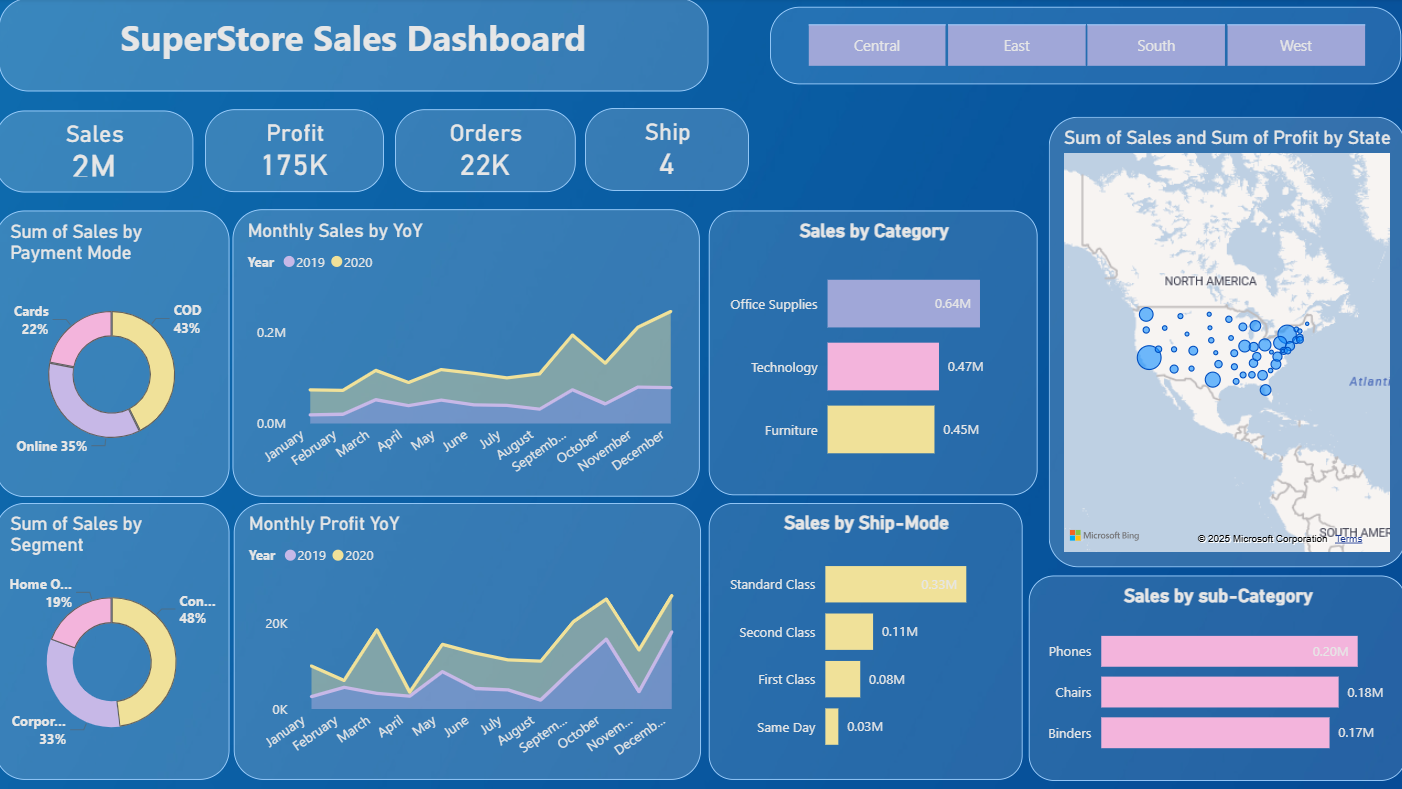

This screenshot's page, from the dashboard's own definition file:
{"tool":"powerbi","page":{"name":"Page 1","canvas":[1280,720],"ordinal":0},"visuals":[{"type":"clusteredBarChart","title":"Sales by Category","fields":{"Category":["SuperStore_Sales_Dataset.Category"],"Y":["Sum(SuperStore_Sales_Dataset.Sales)"]},"box":[647.5,192.5,298.8,258.8],"z":0},{"type":"clusteredBarChart","title":"Sales by sub-Category","fields":{"Category":["SuperStore_Sales_Dataset.Sub-Category"],"Y":["Sum(SuperStore_Sales_Dataset.Sales)"]},"box":[937.5,523.8,342.5,186.2],"z":1000},{"type":"clusteredBarChart","title":"Sales by sub-Category","fields":{"Category":["SuperStore_Sales_Dataset.Ship Mode"],"Y":["Sum(SuperStore_Sales_Dataset.Sales)"]},"box":[647.5,458.8,285,251.2],"z":2000},{"type":"stackedAreaChart","fields":{"Category":["SuperStore_Sales_Dataset.Order Date.Variation.Date Hierarchy.Month"],"Y":["Sum(SuperStore_Sales_Dataset.Sales)"],"Series":["SuperStore_Sales_Dataset.Order Date.Variation.Date Hierarchy.Year"]},"box":[215.4,192.1,424,260.7],"z":3000},{"type":"stackedAreaChart","fields":{"Category":["SuperStore_Sales_Dataset.Order Date.Variation.Date Hierarchy.Month"],"Series":["SuperStore_Sales_Dataset.Order Date.Variation.Date Hierarchy.Year"],"Y":["Sum(SuperStore_Sales_Dataset.Profit)"]},"box":[216.2,458.8,423.8,251.2],"z":4000},{"type":"map","fields":{"Category":["SuperStore_Sales_Dataset.State"],"Size":["Sum(SuperStore_Sales_Dataset.Sales)"]},"box":[956.2,107.5,323.8,408.8],"z":5000},{"type":"donutChart","fields":{"Category":["SuperStore_Sales_Dataset.Segment"],"Y":["Sum(SuperStore_Sales_Dataset.Sales)"]},"box":[0,458.8,212.5,251.2],"z":6000},{"type":"donutChart","fields":{"Category":["SuperStore_Sales_Dataset.Payment Mode"],"Y":["Sum(SuperStore_Sales_Dataset.Sales)"]},"box":[0,192.5,212.5,260],"z":7000},{"type":"textbox","box":[3.8,0,643.8,85],"z":8000},{"type":"card","title":"Sales","fields":{"Values":["Sum(SuperStore_Sales_Dataset.Sales)"]},"box":[0,101.5,179.8,74.1],"z":9000},{"type":"card","title":"Profit","fields":{"Values":["Sum(SuperStore_Sales_Dataset.Profit)"]},"box":[190,101.2,162.5,75],"z":10000},{"type":"card","title":"Orders","fields":{"Values":["Sum(SuperStore_Sales_Dataset.Quantity)"]},"box":[362.5,101.2,163.8,75],"z":11000},{"type":"card","title":"Ship","fields":{"Values":["Avg(SuperStore_Sales_Dataset.AvgDelivery)"]},"box":[535,100,148.8,75],"z":12000},{"type":"slicer","fields":{"Values":["SuperStore_Sales_Dataset.Region"]},"box":[703.8,7.5,572.5,70],"z":13000}]}

Visuals, with their boxes in screenshot pixels (x1, y1, x2, y2), scaled from the page's 1280x720 canvas onto the 1402x789 screenshot:
"Sales by Category" clusteredBarChart: [x1=709, y1=211, x2=1036, y2=495]
"Sales by sub-Category" clusteredBarChart: [x1=1027, y1=574, x2=1401, y2=778]
"Sales by sub-Category" clusteredBarChart: [x1=709, y1=503, x2=1021, y2=778]
stackedAreaChart - SuperStore_Sales_Dataset.Order Date.Variation.Date Hierarchy.Month x Sum(SuperStore_Sales_Dataset.Sales): [x1=236, y1=211, x2=700, y2=496]
stackedAreaChart - SuperStore_Sales_Dataset.Order Date.Variation.Date Hierarchy.Month x SuperStore_Sales_Dataset.Order Date.Variation.Date Hierarchy.Year: [x1=237, y1=503, x2=701, y2=778]
map - SuperStore_Sales_Dataset.State x Sum(SuperStore_Sales_Dataset.Sales): [x1=1047, y1=118, x2=1401, y2=566]
donutChart - SuperStore_Sales_Dataset.Segment x Sum(SuperStore_Sales_Dataset.Sales): [x1=0, y1=503, x2=233, y2=778]
donutChart - SuperStore_Sales_Dataset.Payment Mode x Sum(SuperStore_Sales_Dataset.Sales): [x1=0, y1=211, x2=233, y2=496]
textbox: [x1=4, y1=0, x2=709, y2=93]
"Sales" card: [x1=0, y1=111, x2=197, y2=192]
"Profit" card: [x1=208, y1=111, x2=386, y2=193]
"Orders" card: [x1=397, y1=111, x2=576, y2=193]
"Ship" card: [x1=586, y1=110, x2=749, y2=192]
slicer - SuperStore_Sales_Dataset.Region: [x1=771, y1=8, x2=1398, y2=85]
